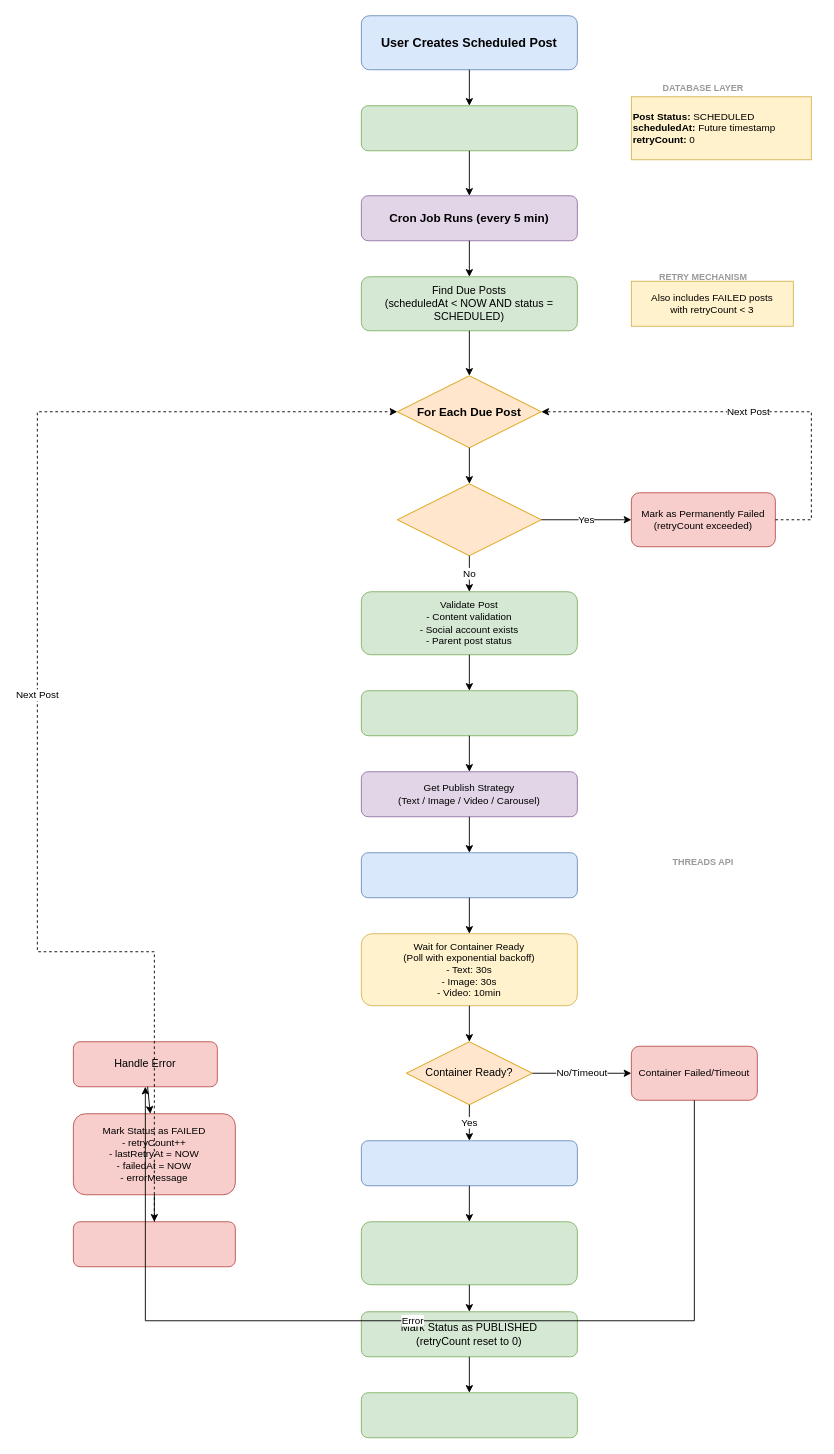
Some shapes in this 834 by 1454 pixel diagram are drawn without their labels. The shapes that lost their labels are listed below. From the top down, each one's centre as x and y in pixels, then its label:
At [468,128]: "Save Post to Database".
At [468,519]: "Check Retry Count >= MAX_RETRY_COUNT (3)?".
At [468,713]: "Mark Status as PUBLISHING".
At [468,875]: "Create Container via Threads API".
At [468,1163]: "Publish Container via Threads API".
At [153,1244]: "❌ Publish Failed (Will retry on next cron)".
At [468,1253]: "Create PostPublication Record - platformPostId - platformUrl - publishedAt".
At [468,1415]: "✅ Publish Success".
